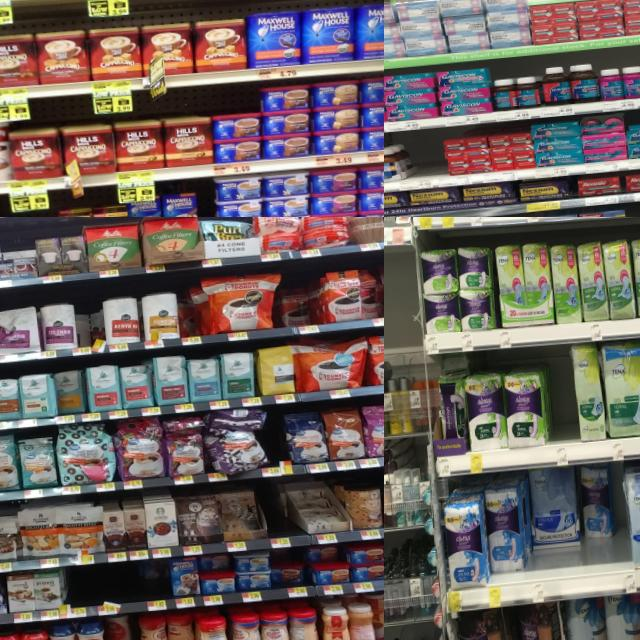100- O.O.S: (547, 355, 580, 463), (613, 464, 634, 594), (92, 561, 138, 614), (413, 134, 448, 188), (266, 411, 290, 475), (266, 486, 288, 546), (68, 567, 93, 617), (196, 183, 218, 217)
